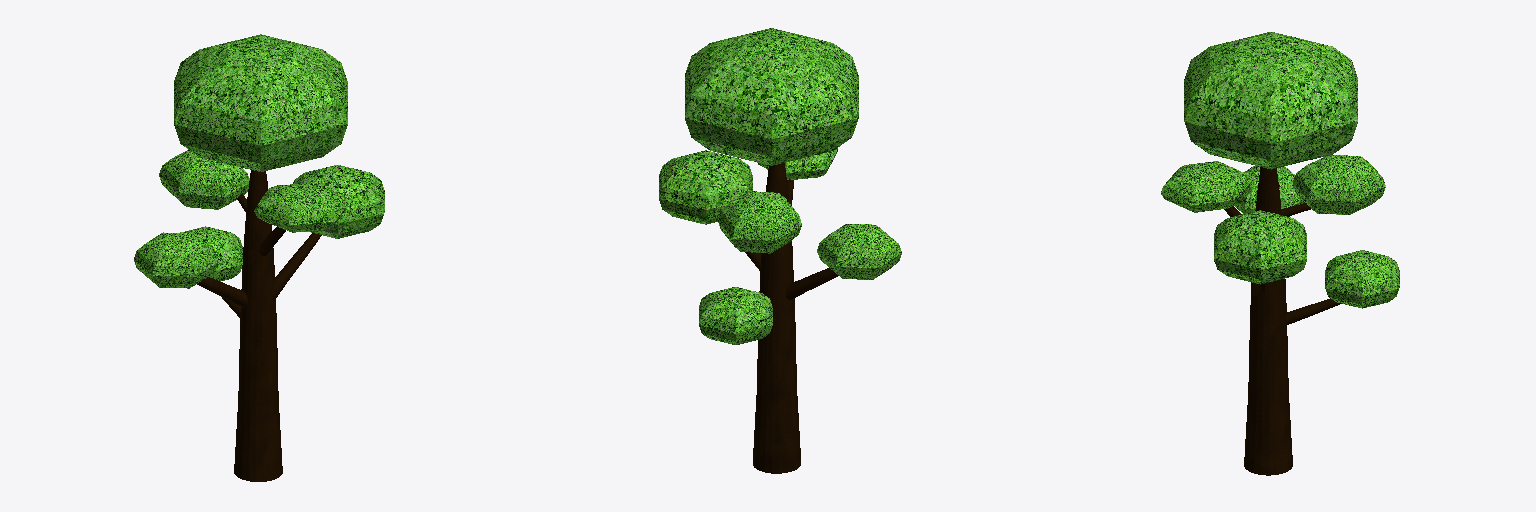
3 renders of one model, left to right at view 1: azimuth 30°, elevation 25°; view 2: azimuth 150°, elevation 25°; view 3: azimuth 270°, elevation 25°, orthographic.
Visible parts, largest first — view 1: polySurface4; view 2: polySurface4; view 3: polySurface4.
Boxes of the visible parts, box(x1,y1,x2,y2) form: polySurface4: box(134, 34, 384, 481); polySurface4: box(659, 28, 901, 473); polySurface4: box(1161, 32, 1399, 475).
Bounding box in the file's own units: 1.8 × 3.05 × 1.56.
Materials: 1 (1 with a texture image).